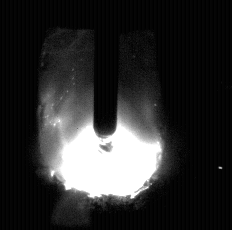arame: (94, 0, 119, 138)
poca: (38, 0, 164, 230)
